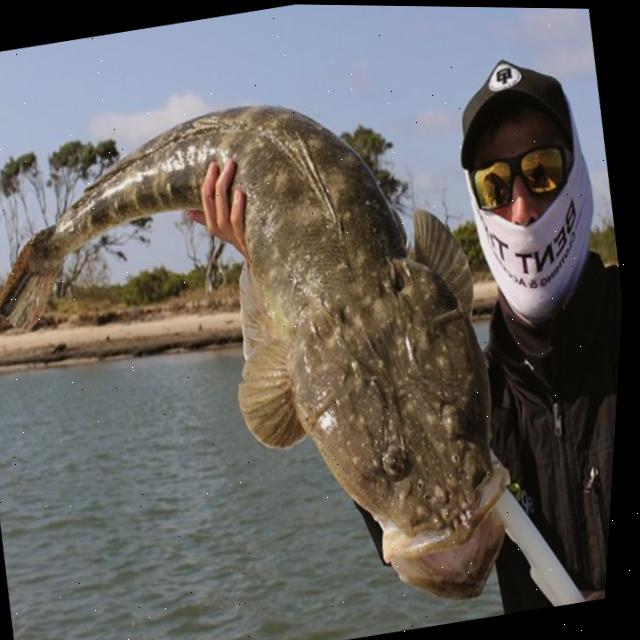Flathead: (0, 49, 583, 640)
